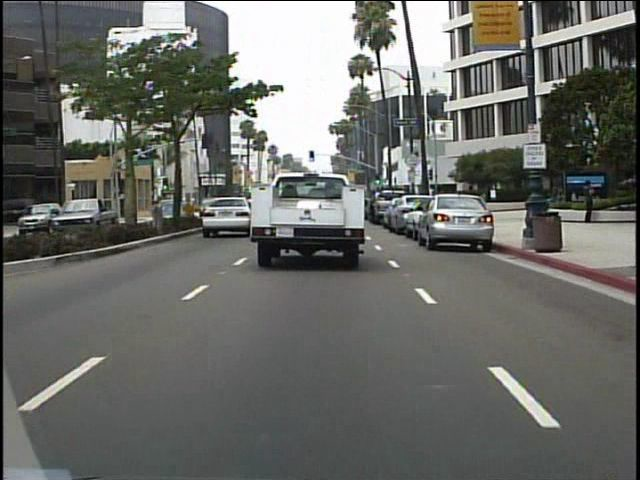person: (581, 179, 602, 230)
